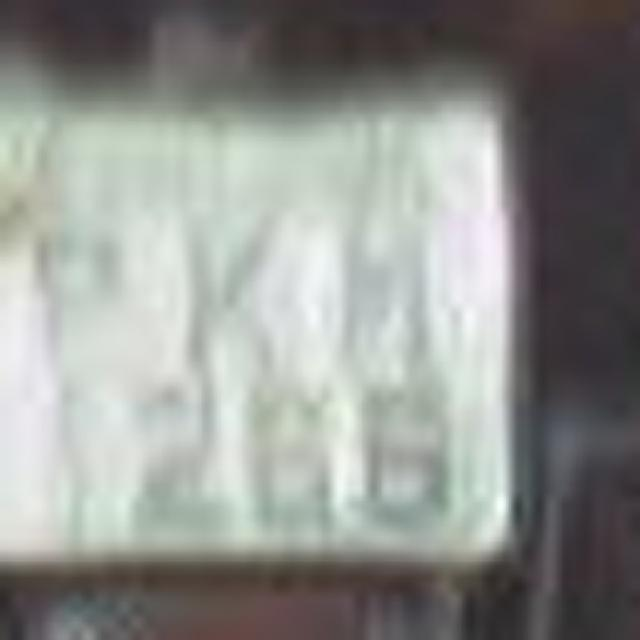2: (124, 352, 228, 540)
5: (128, 348, 224, 524)
B: (332, 208, 420, 368)
K: (176, 208, 276, 360)
P: (28, 200, 144, 365)
